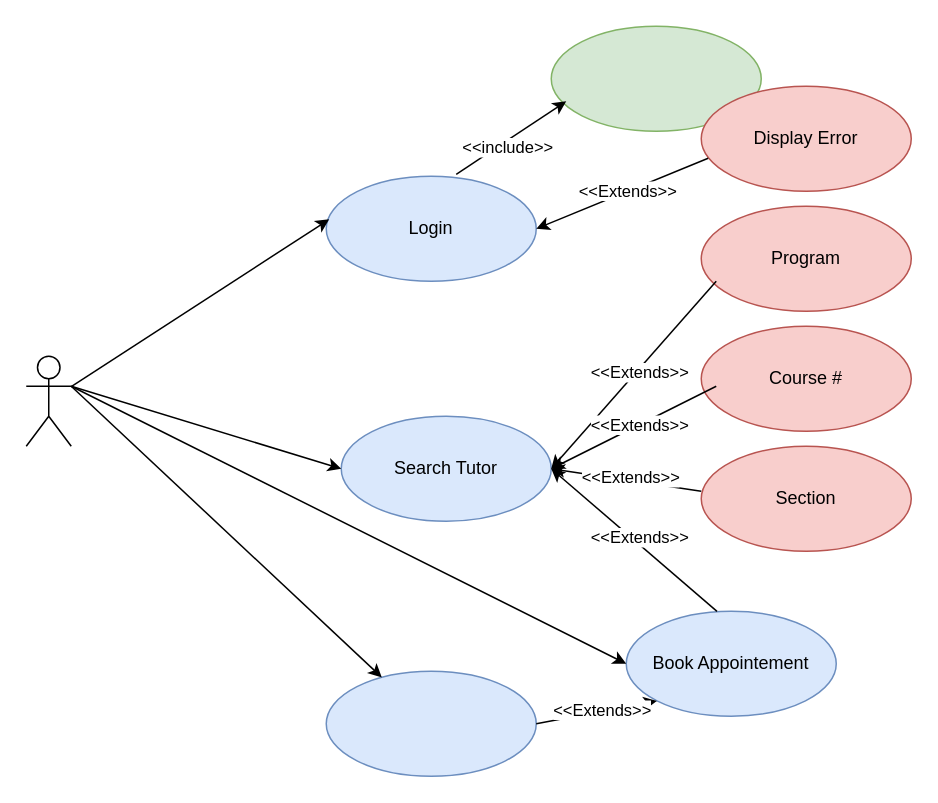
Image size: 938x803. Some labels were removed from this diagram. The centre of each missing label's shape, as x and y in pixels:
"Actor" goes at [48,400].
"Delete Appointments" goes at [430,723].
"Verify Login" goes at [655,78].
